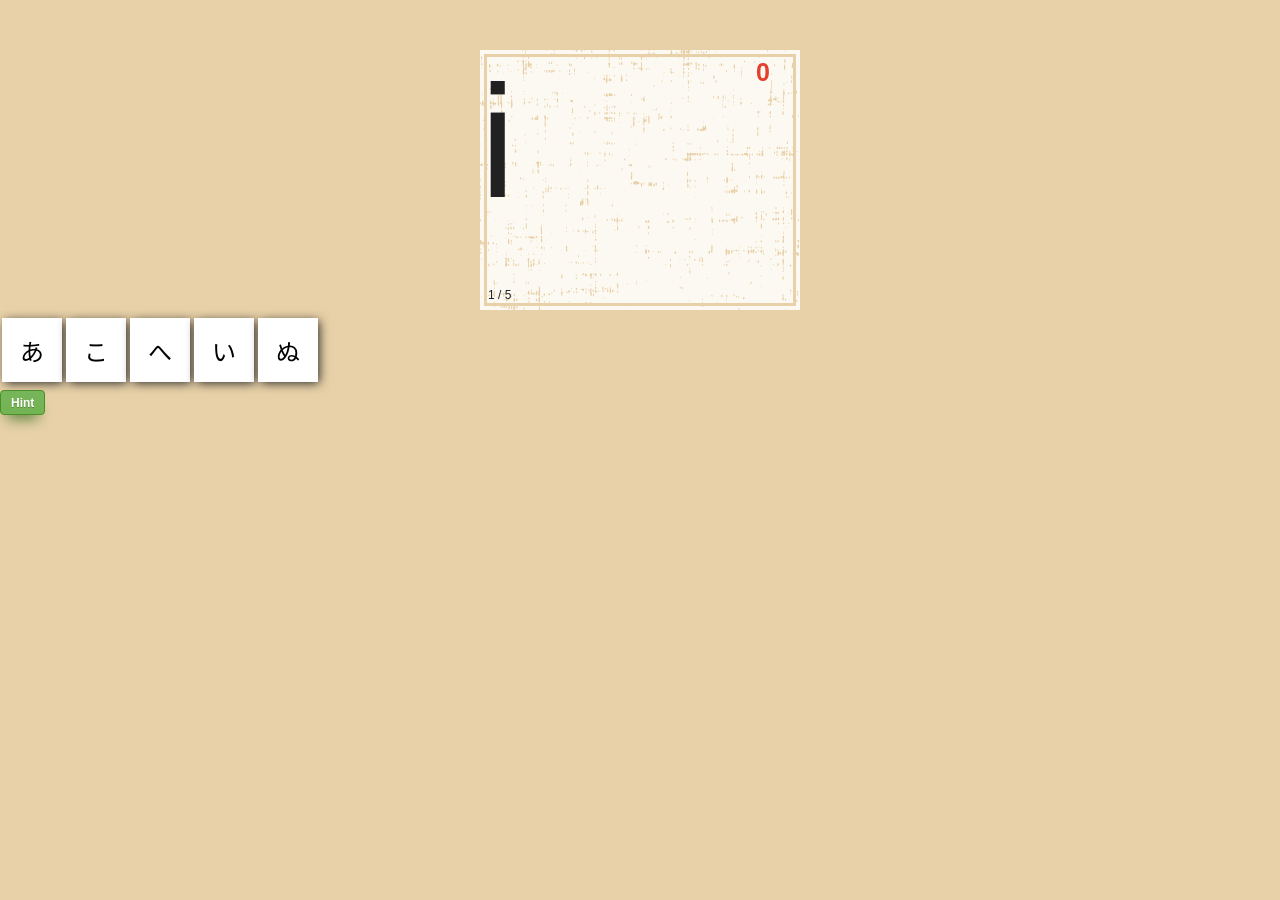
it: Game page › moves to the next question after Next
The width and height of the screenshot is (1280, 900).
Click the button "い". click: (224, 350)
box: 194,318 -> 254,382
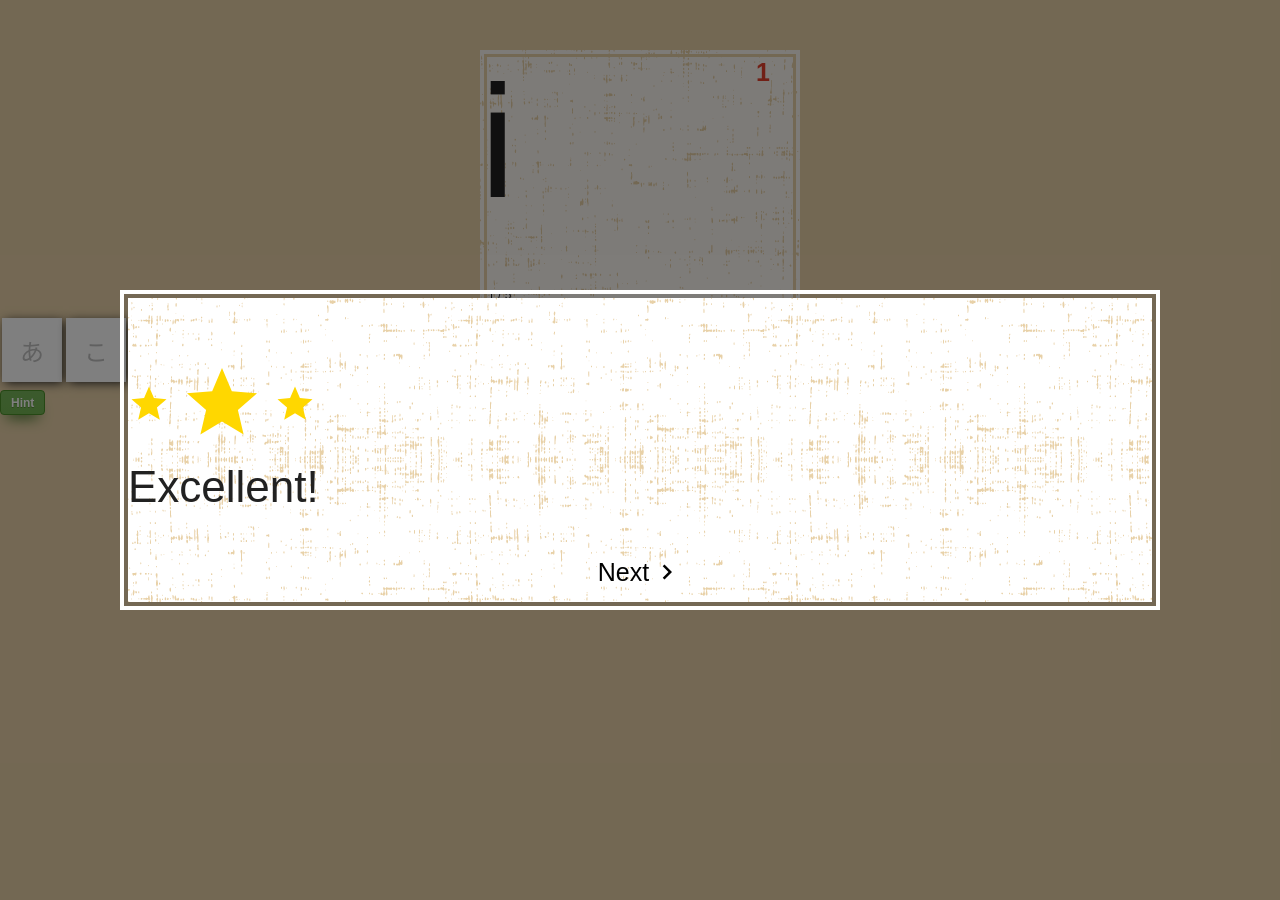
Click the button with class "next-question-button". click: (640, 572)
box: 565,542 -> 715,602
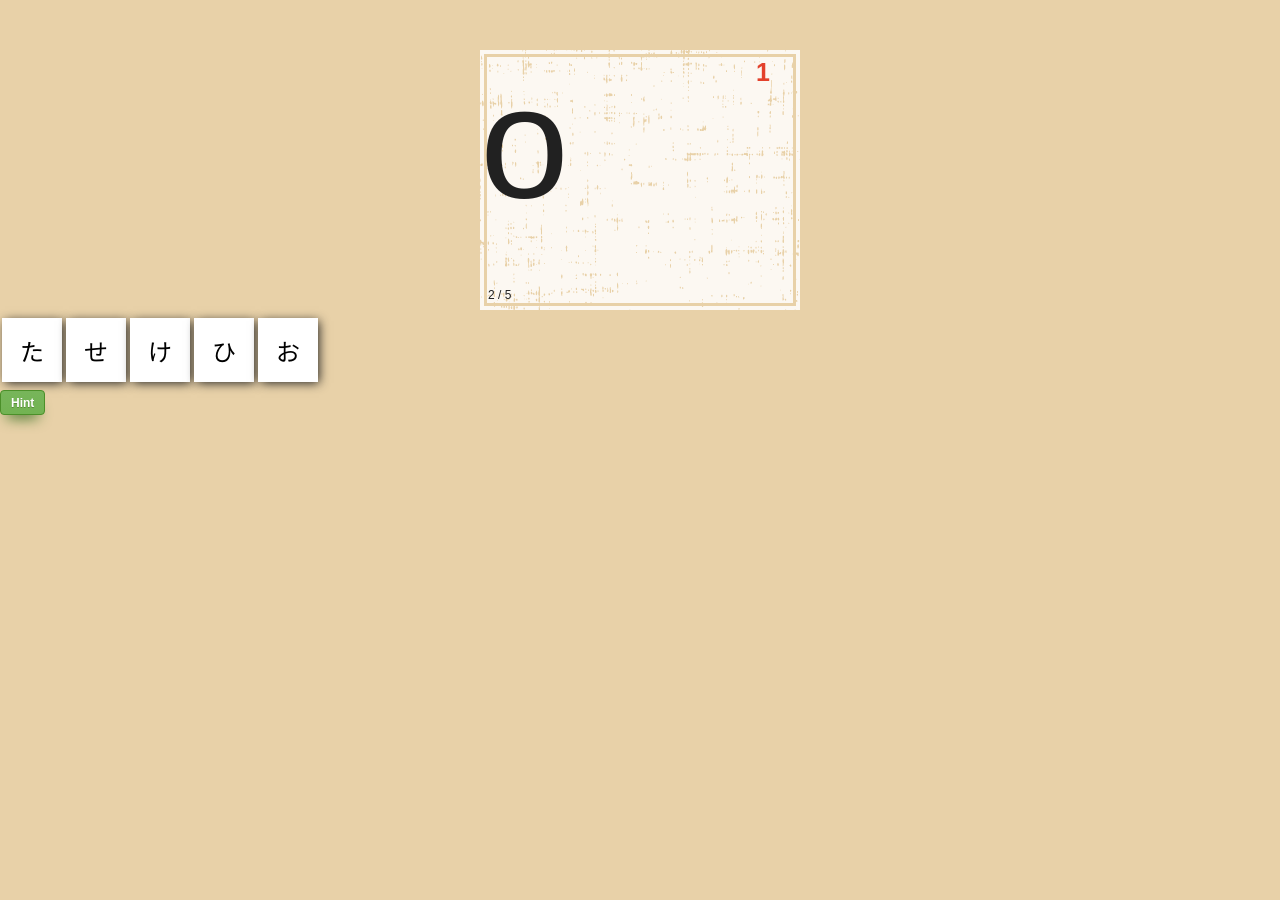
Expected: the element with class "game" does not have class "correct", 0,50 -> 800,415
